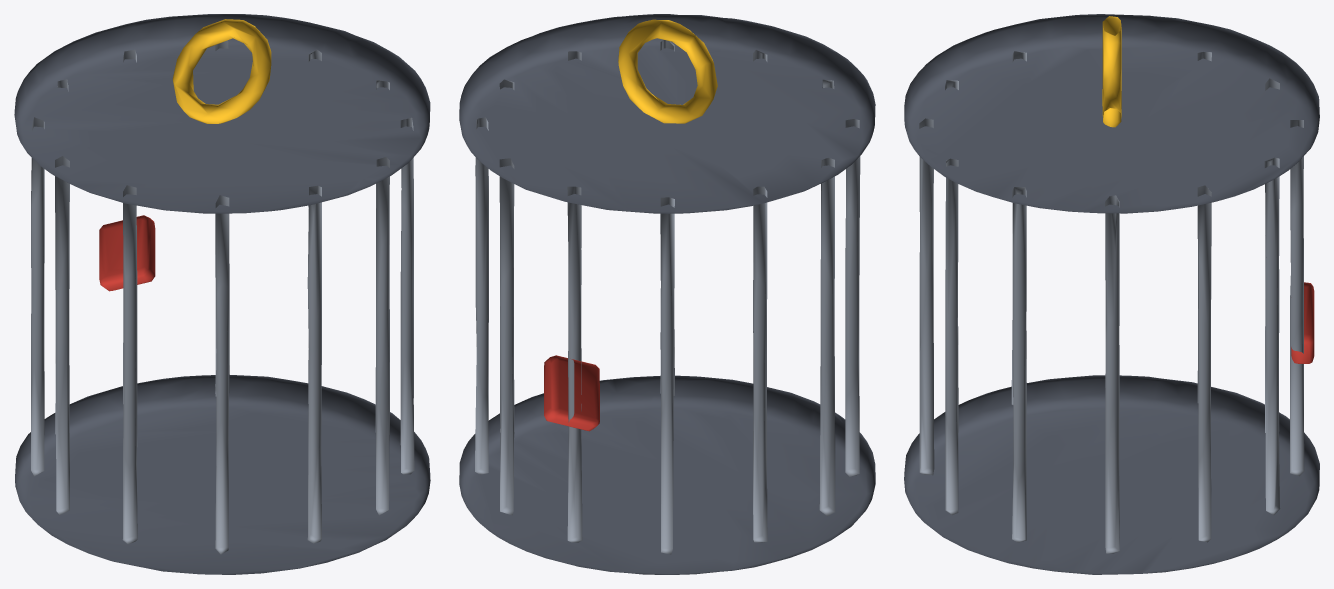
The model's file is obj_rescue_cage.glb.
The picture shows the model from 3 angles, left to right: view 1: azimuth 30°, elevation 25°; view 2: azimuth 150°, elevation 25°; view 3: azimuth 270°, elevation 25°; orthographic projection.
Parts seen in each view (by area): view 1: body; view 2: body; view 3: body.
Boxes of the visible parts, x1=… form: body: x1=14, y1=14, x2=430, y2=574; body: x1=459, y1=14, x2=875, y2=574; body: x1=904, y1=14, x2=1319, y2=574.
Bounding box in the file's own units: 3.6 × 4.49 × 3.6.
Materials: 1 (1 with a texture image).
